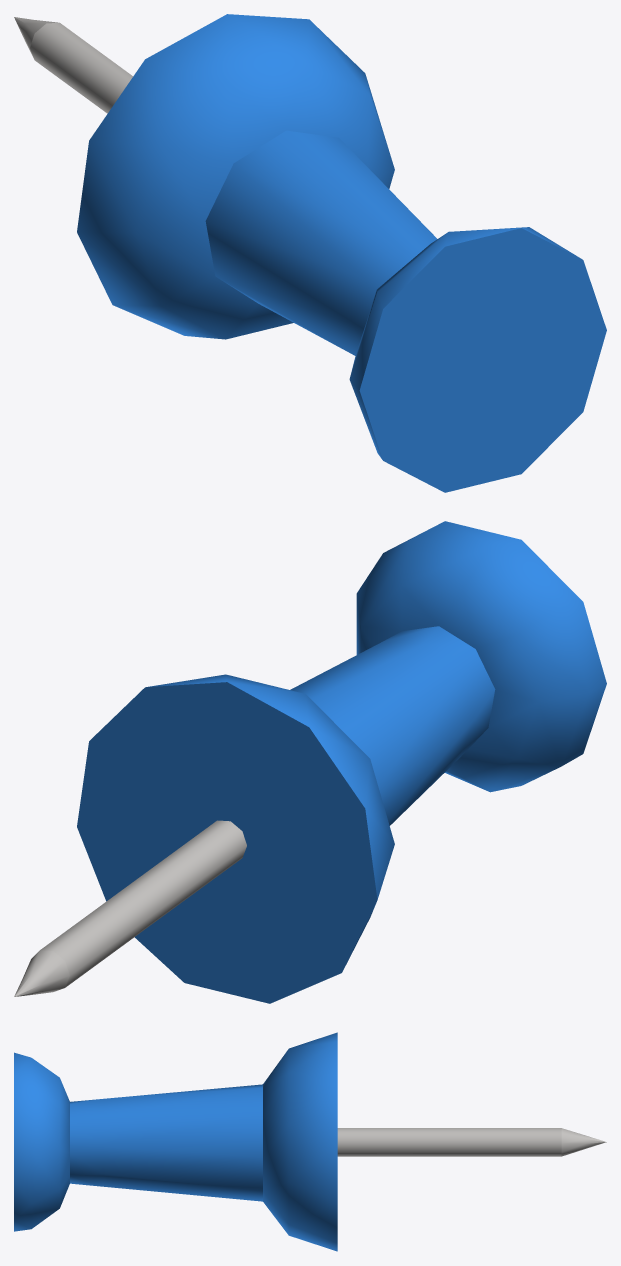
Rendered from Push Pin.obj.
3 views of the same model, one above another, from view 1: azimuth 30°, elevation 25°; view 2: azimuth 150°, elevation 25°; view 3: azimuth 270°, elevation 25° (orthographic). The views are drawn at different scales.
Visible parts, largest first — view 1: Solid1; view 2: Solid1; view 3: Solid1.
Boxes of the visible parts, box(x1,y1,x2,y2) form: Solid1: box(14, 14, 606, 492); Solid1: box(14, 521, 606, 1003); Solid1: box(14, 1032, 606, 1251).
Bounding box in the file's own units: 8.81 × 8.72 × 23.82.
